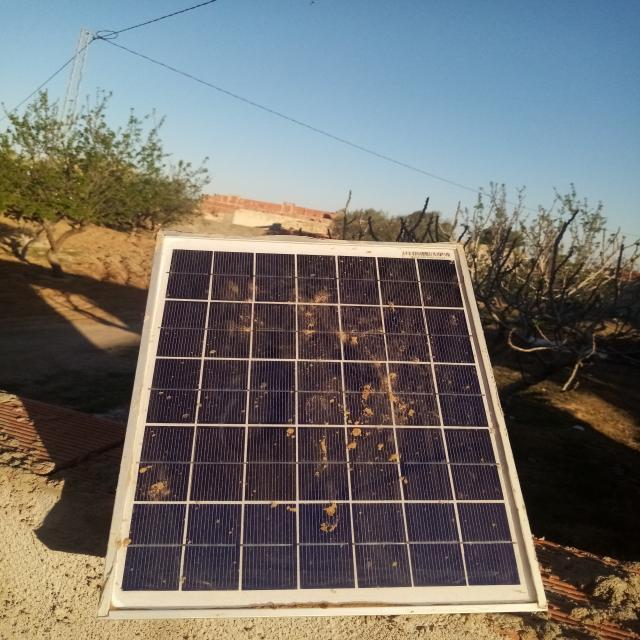faulty: (105, 232, 544, 614)
